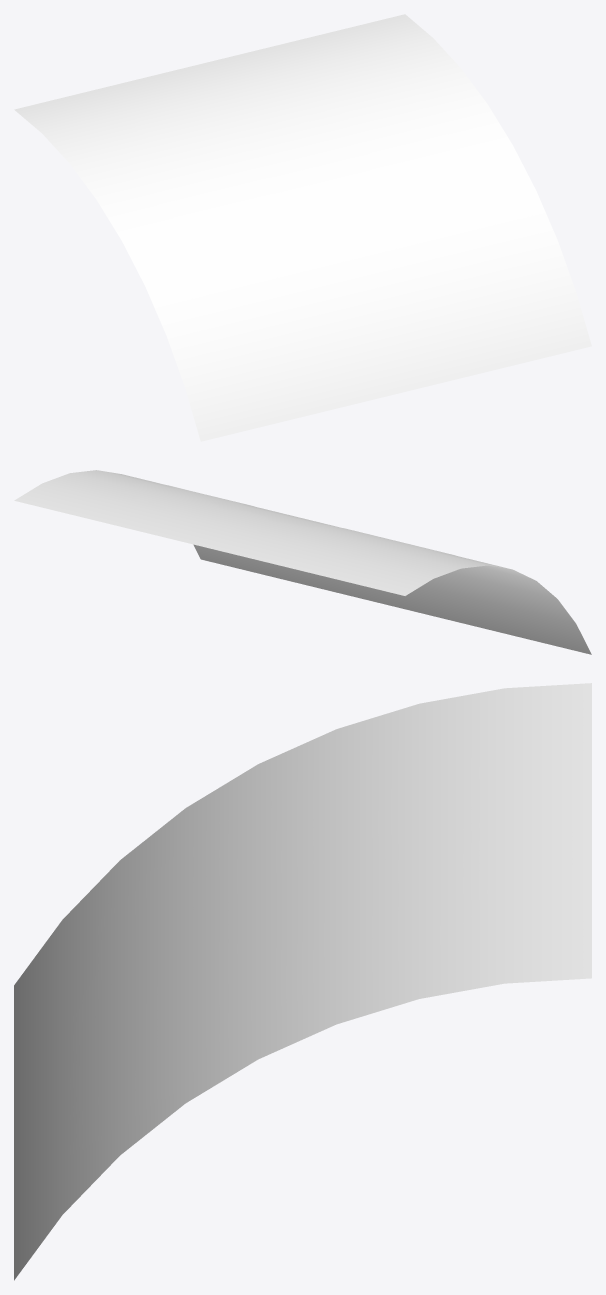
File: grd_F_H_2.dae
3 renders of one model, top to bottom at view 1: azimuth 30°, elevation 25°; view 2: azimuth 150°, elevation 25°; view 3: azimuth 270°, elevation 25°, orthographic. The views are drawn at different scales.
Parts seen in each view (by area): view 1: grd_F_H_2; view 2: grd_F_H_2; view 3: grd_F_H_2.
Boxes of the visible parts, <box> form: grd_F_H_2: <box>14,14,591,441</box>; grd_F_H_2: <box>14,470,591,654</box>; grd_F_H_2: <box>14,683,591,1280</box>.
Bounding box in the file's own units: 512 × 244 × 423.
Materials: 2 (1 with a texture image).
